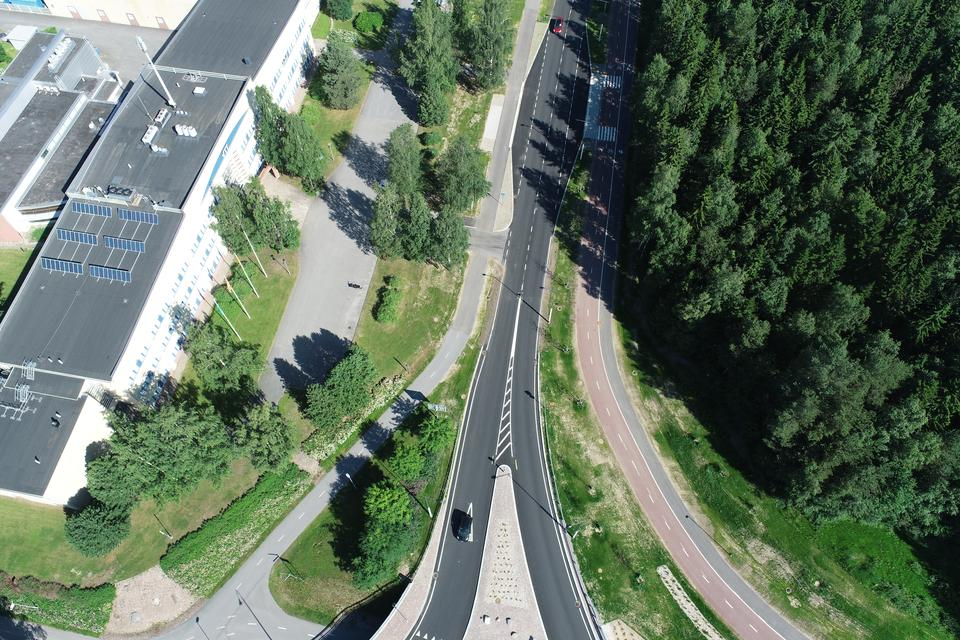intersection: (441, 217, 562, 272)
